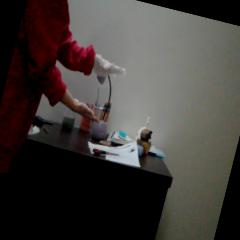gloved: (92, 54, 128, 80)
not-gloved: (74, 100, 104, 124)
